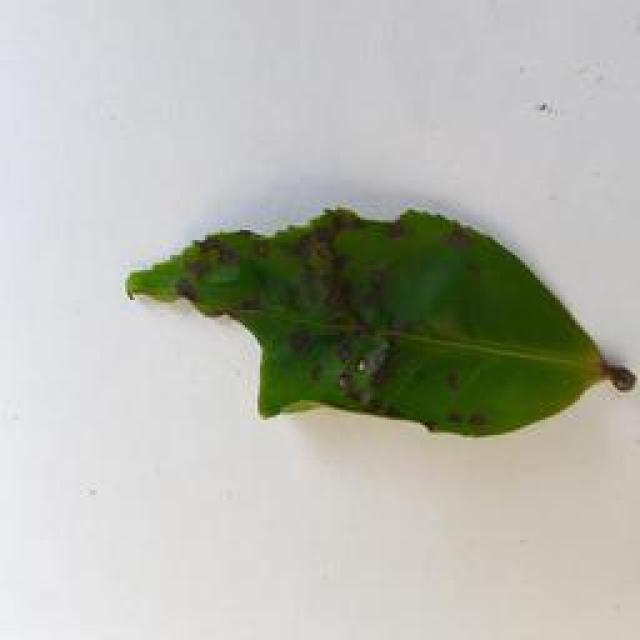Helopeltis: (122, 201, 640, 454)
